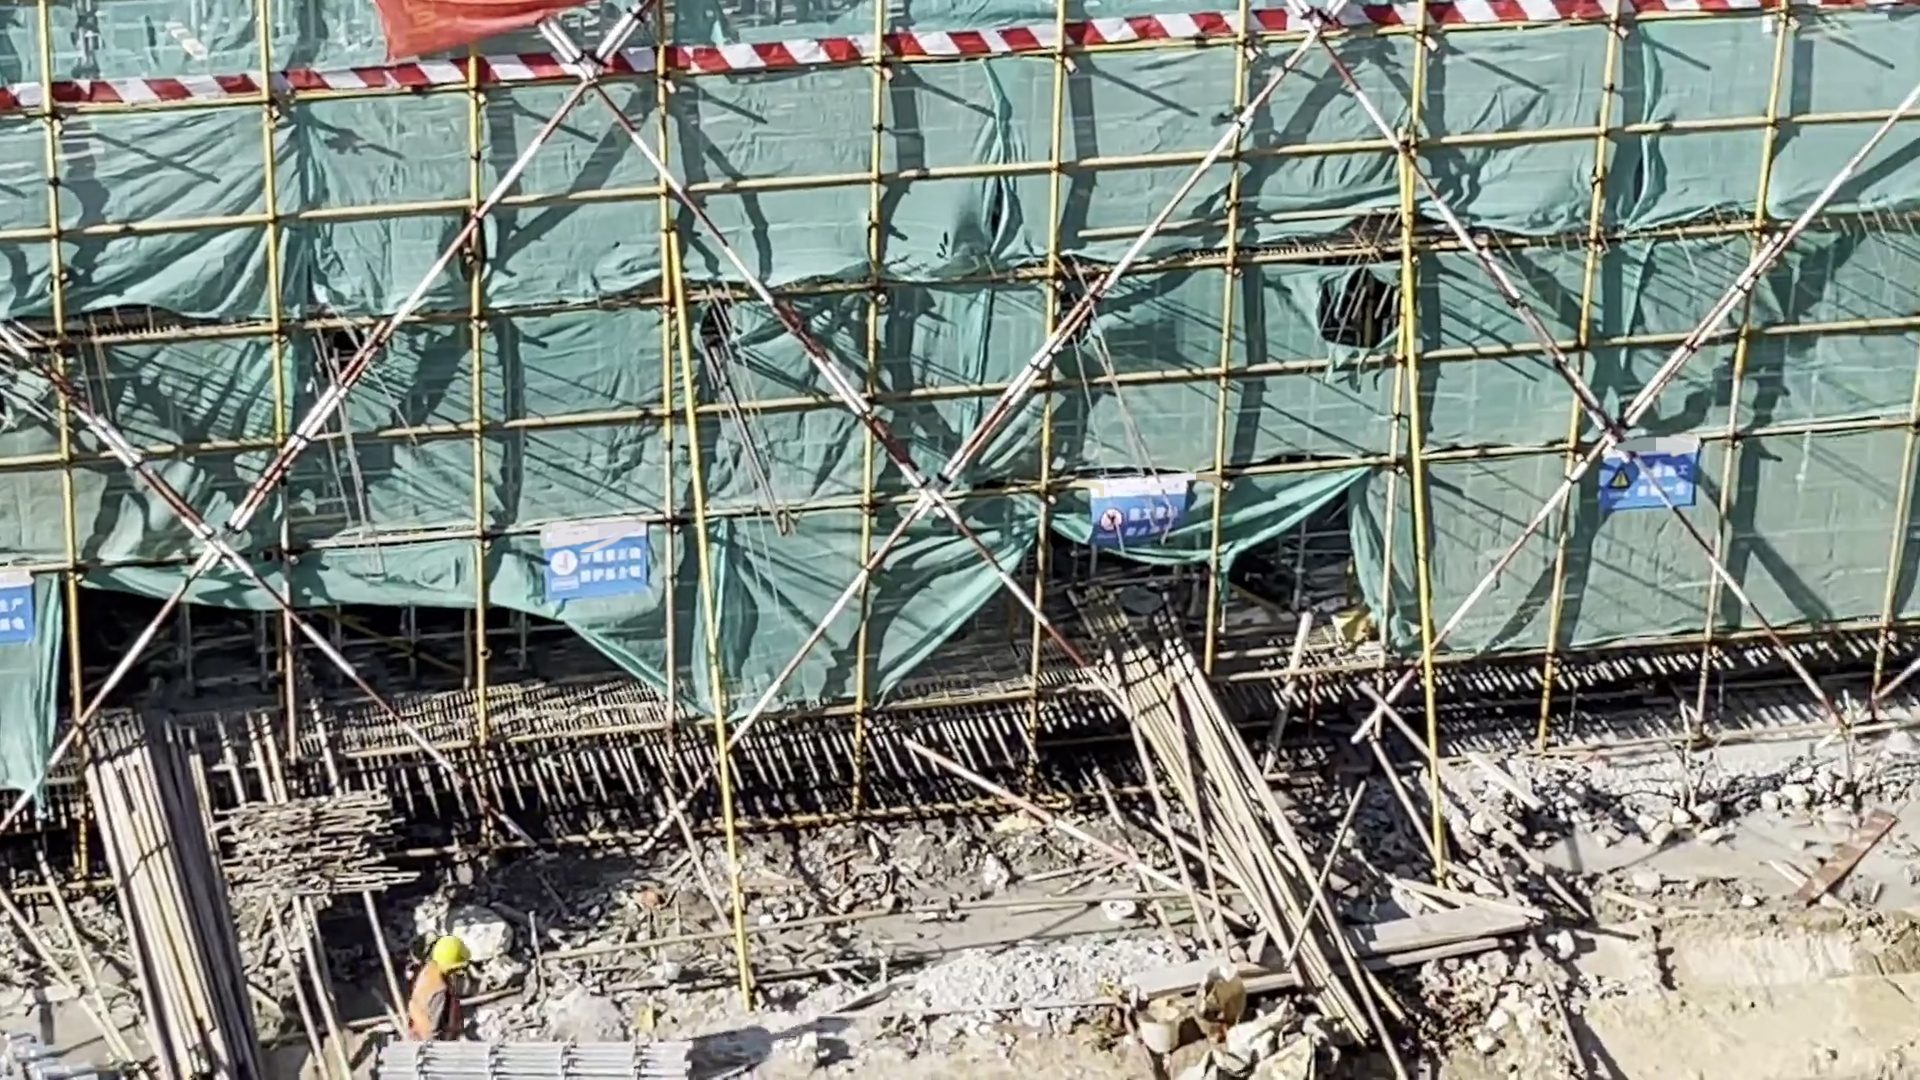helmet: (439, 927, 489, 971)
person: (411, 926, 481, 1046)
slogan: (1576, 444, 1701, 521), (544, 522, 653, 599), (1086, 472, 1178, 542)
vest: (418, 971, 458, 1039)
